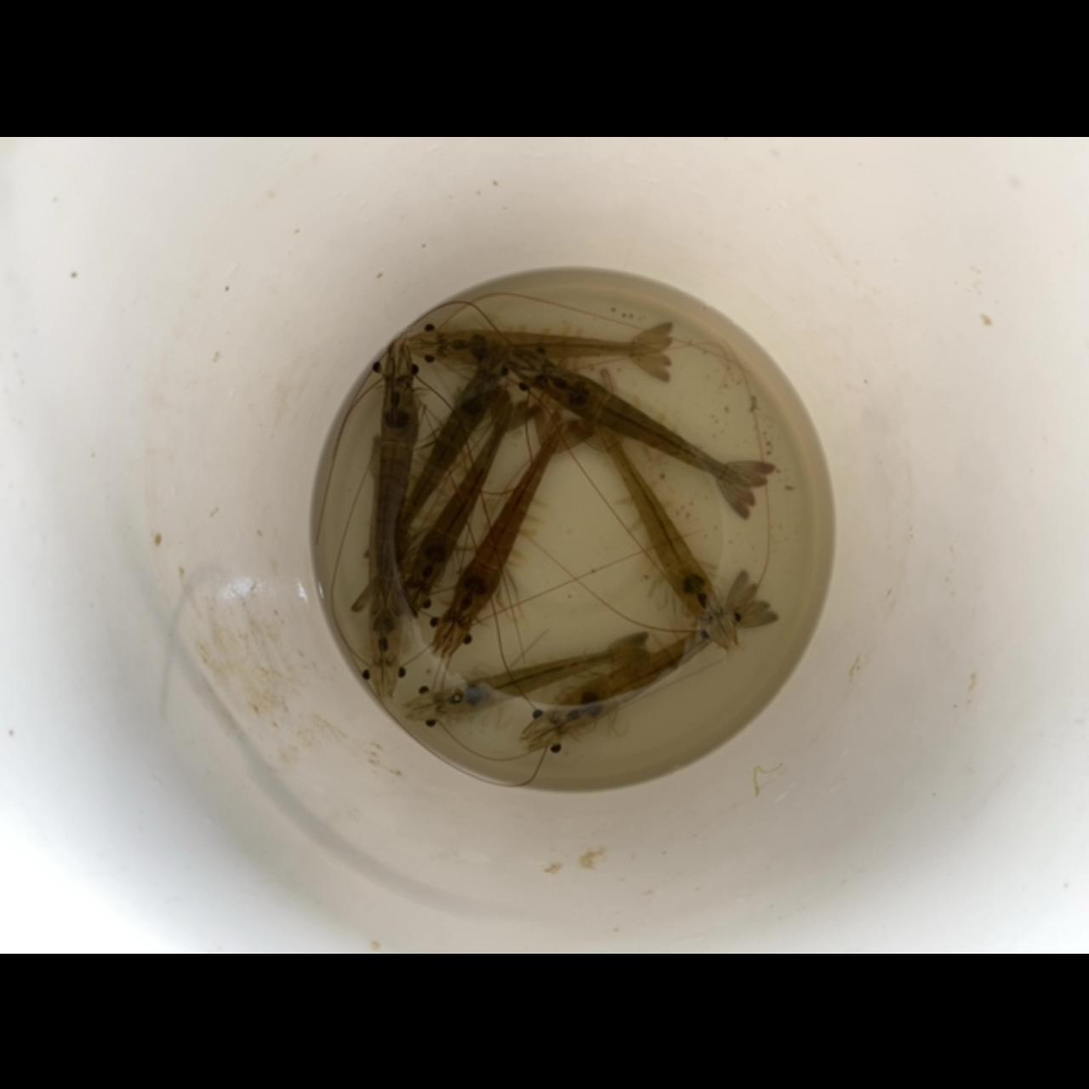top_shrimp: (538, 361, 752, 489), (555, 601, 755, 736), (596, 414, 722, 622), (452, 422, 565, 622), (391, 370, 498, 562), (410, 401, 514, 590), (437, 648, 644, 714), (375, 369, 418, 608), (369, 434, 405, 664), (440, 329, 662, 365)
